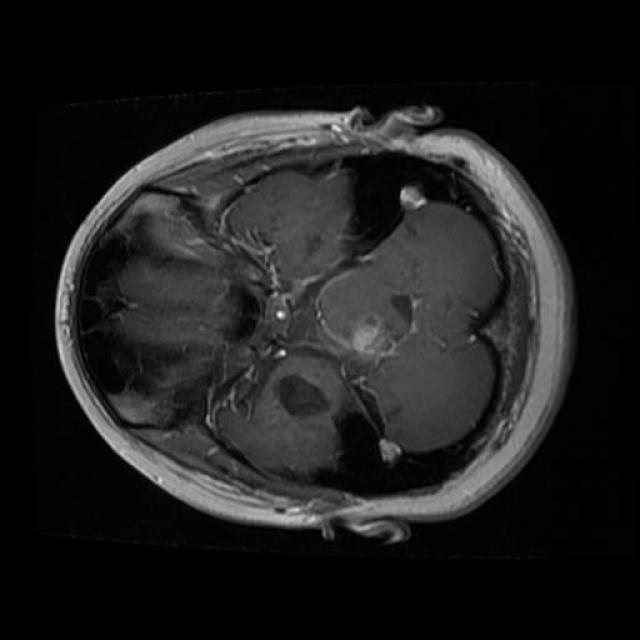Glioma: (340, 313, 400, 354), (279, 374, 327, 417)
